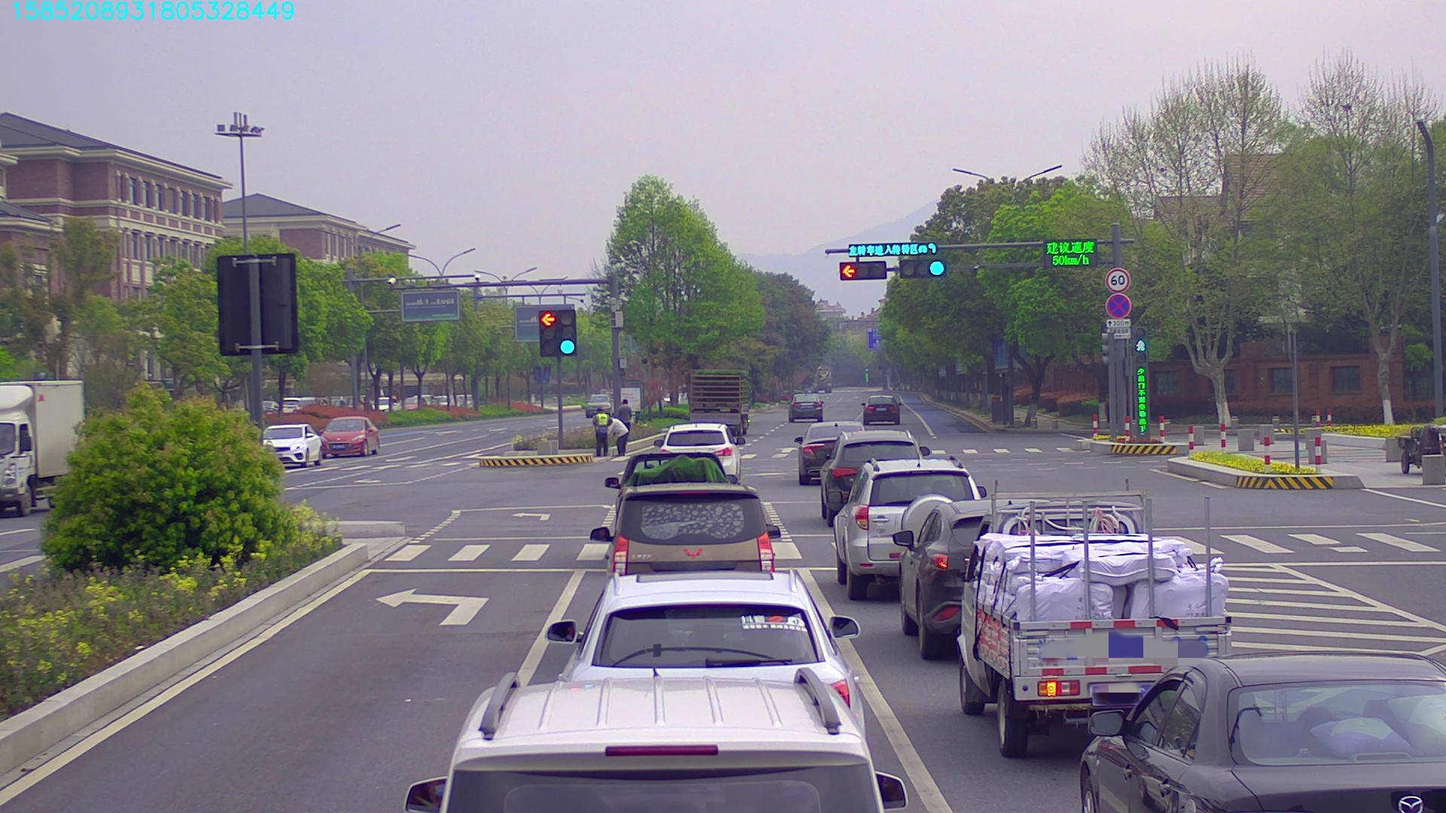green: (899, 260, 945, 276)
red: (837, 262, 889, 282)
wait_on: (853, 242, 937, 255)
